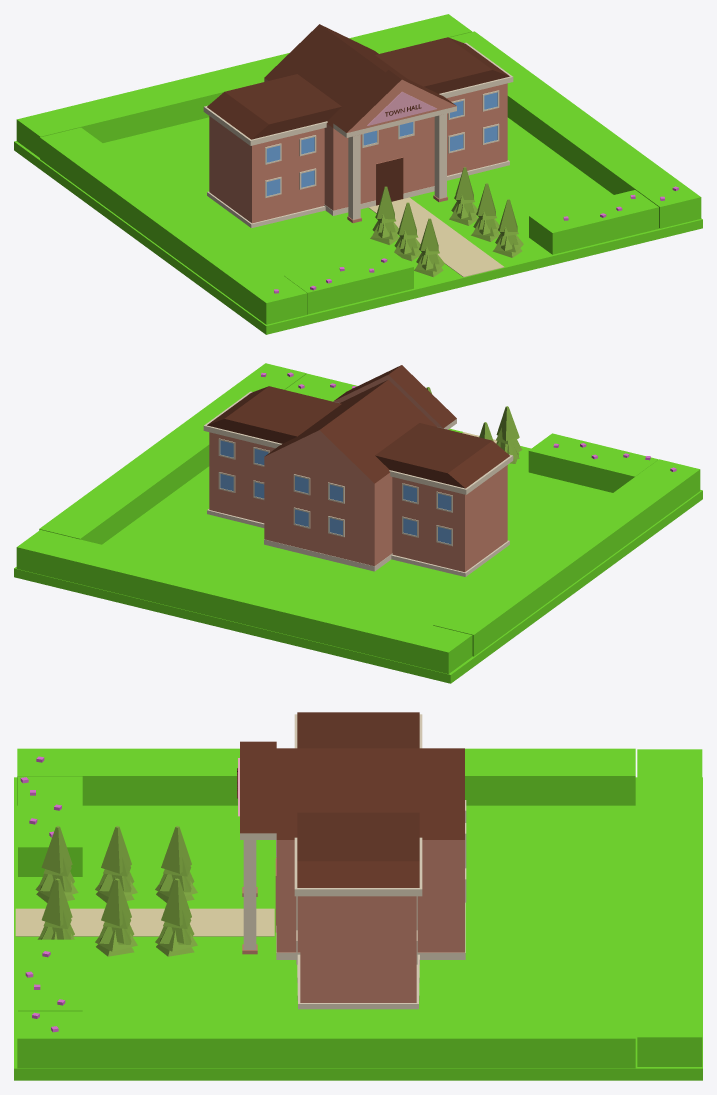
The model's file is town_hall.fbx.
3 renders of one model, top to bottom at view 1: azimuth 30°, elevation 25°; view 2: azimuth 150°, elevation 25°; view 3: azimuth 270°, elevation 25°, orthographic. The views are drawn at different scales.
Visible parts, largest first — view 1: town_hall, Cube, Cube.004, Cube.002, Cube.001, Cube.006, Cube.005, tree_house_H.005, tree_house_H.006, tree_house_H.001, tree_house_H.003, tree_house_H.004 (+1 smaller); view 2: town_hall, Cube, Cube.001, Cube.004, Cube.002, Cube.005, Cube.006, tree_house_H.005; view 3: Cube, town_hall, Cube.002, Cube.001, Cube.004, Cube.005, Cube.006, tree_house_H.001, tree_house_H.004, tree_house_H.005, tree_house_H.003, tree_house_H.002 (+1 smaller).
Boxes of the visible parts, x1,y1,x2,y2 form: town_hall: (203, 24, 513, 228); Cube: (14, 117, 702, 334); Cube.004: (40, 127, 307, 324); Cube.002: (449, 31, 701, 228); Cube.001: (16, 14, 472, 157); Cube.006: (529, 190, 658, 254); Cube.005: (284, 249, 413, 314); tree_house_H.005: (414, 218, 444, 277); tree_house_H.006: (492, 199, 523, 257); tree_house_H.001: (449, 167, 477, 225); tree_house_H.003: (370, 186, 399, 245); tree_house_H.004: (471, 183, 499, 241); town_hall: (203, 365, 513, 576); Cube: (14, 428, 702, 683); Cube.001: (16, 530, 472, 673); Cube.004: (433, 459, 700, 656); Cube.002: (39, 363, 306, 544); Cube.005: (528, 433, 658, 492); Cube.006: (285, 373, 357, 401); tree_house_H.005: (496, 406, 522, 463); Cube: (14, 777, 702, 1080); town_hall: (238, 712, 466, 1009); Cube.002: (17, 1011, 635, 1068); Cube.001: (637, 749, 702, 1066); Cube.004: (17, 748, 635, 805); Cube.005: (18, 776, 82, 876); Cube.006: (18, 939, 82, 1011); tree_house_H.001: (155, 878, 197, 956); tree_house_H.004: (95, 878, 137, 956); tree_house_H.005: (35, 826, 78, 902); tree_house_H.003: (155, 826, 197, 902); tree_house_H.002: (95, 826, 137, 902).
Bounding box in the file's own units: 26 × 26 × 8.05.
Materials: 9 (1 with a texture image).
